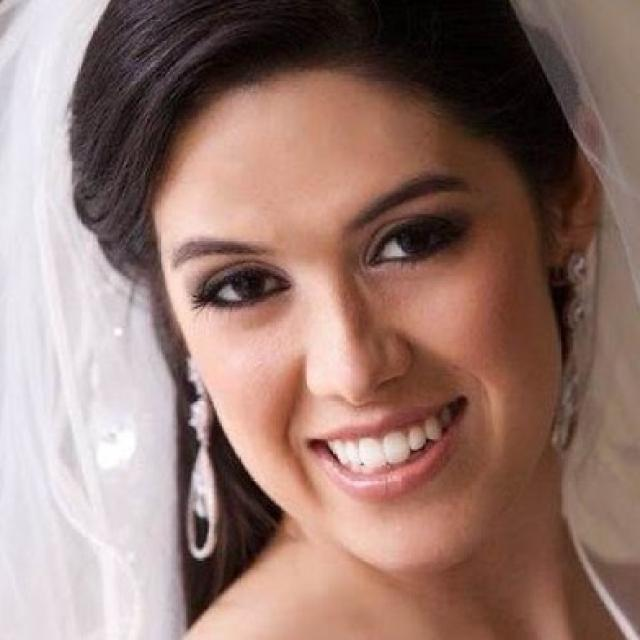Normal: (147, 49, 562, 583)
